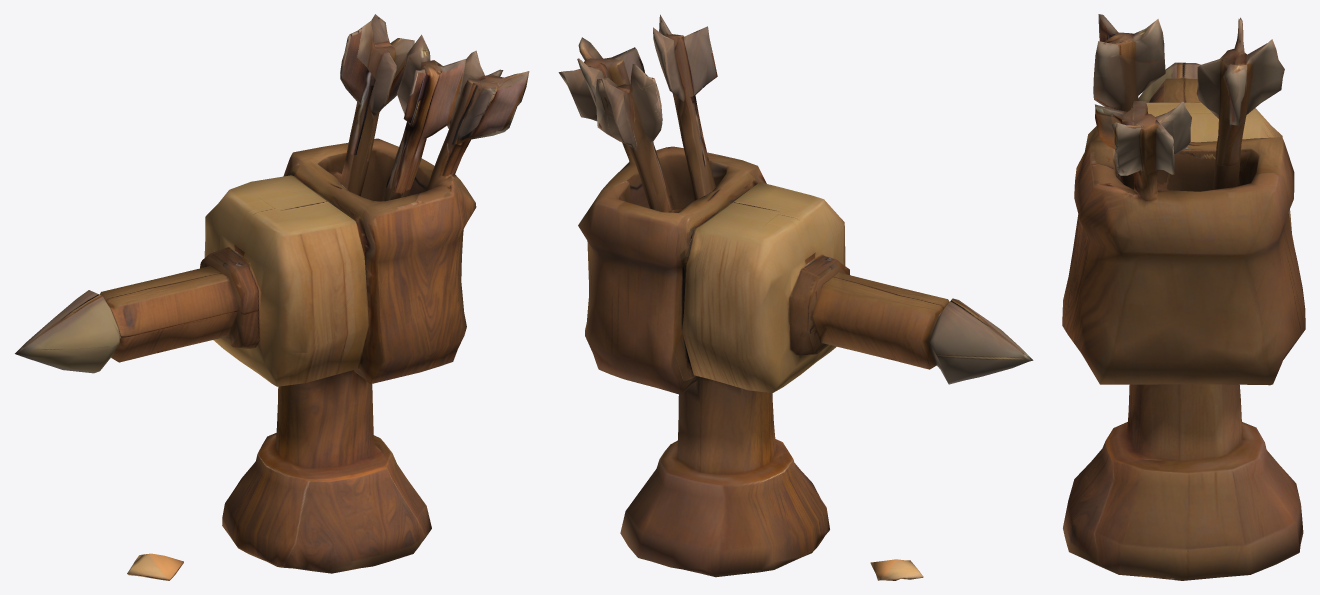
The model's file is Arrow_Turret_1214000337_texture.fbx.
3 renders of one model, left to right at view 1: azimuth 30°, elevation 25°; view 2: azimuth 150°, elevation 25°; view 3: azimuth 270°, elevation 25°, orthographic. The views are drawn at different scales.
Parts seen in each view (by area): view 1: Mesh_0; view 2: Mesh_0; view 3: Mesh_0.
Part boxes in pixels (x1=…): Mesh_0: x1=15, y1=14, x2=529, y2=580; Mesh_0: x1=558, y1=14, x2=1033, y2=580; Mesh_0: x1=1062, y1=14, x2=1305, y2=580.
Bounding box in the file's own units: 201 × 190 × 74.84.
Materials: 1 (1 with a texture image).
